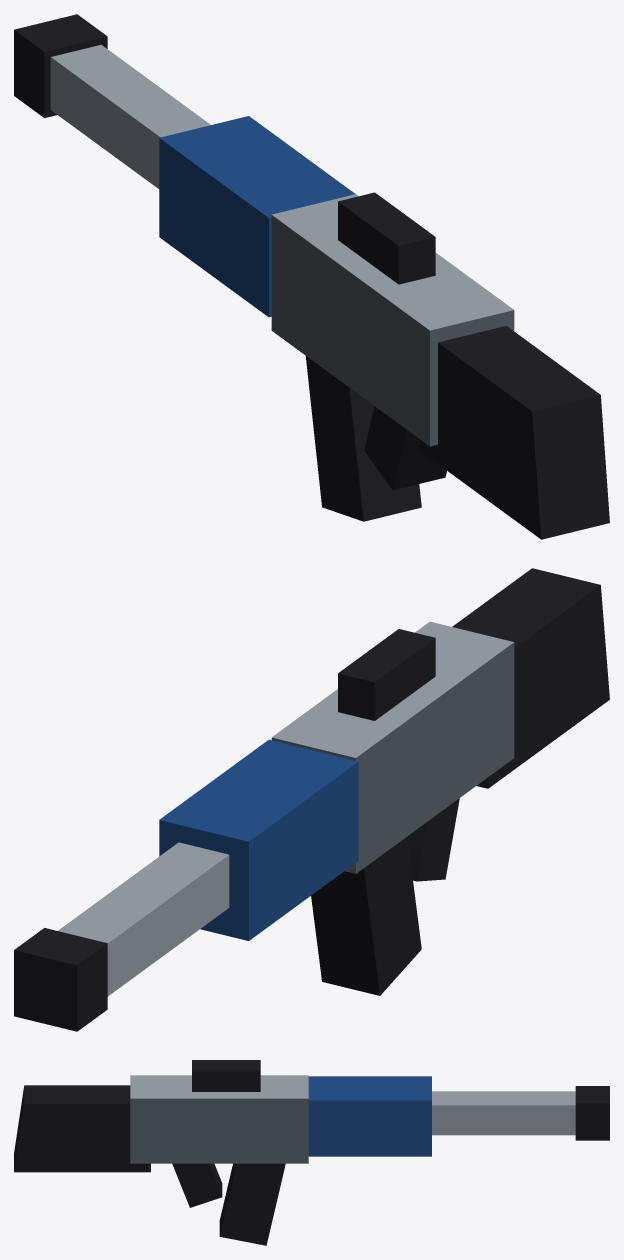
File: wpn_rifle.glb
3 renders of one model, top to bottom at view 1: azimuth 30°, elevation 25°; view 2: azimuth 150°, elevation 25°; view 3: azimuth 270°, elevation 25°, orthographic. The views are drawn at different scales.
Visible parts, largest first — view 1: wpn_rifle; view 2: wpn_rifle; view 3: wpn_rifle.
Boxes of the visible parts, box(x1,y1,x2,y2) form: wpn_rifle: box(14, 14, 609, 539); wpn_rifle: box(14, 568, 609, 1031); wpn_rifle: box(14, 1060, 609, 1245).
Size of the model in its own units: 0.1182 by 0.3869 by 1.21.
Materials: 1 (1 with a texture image).
